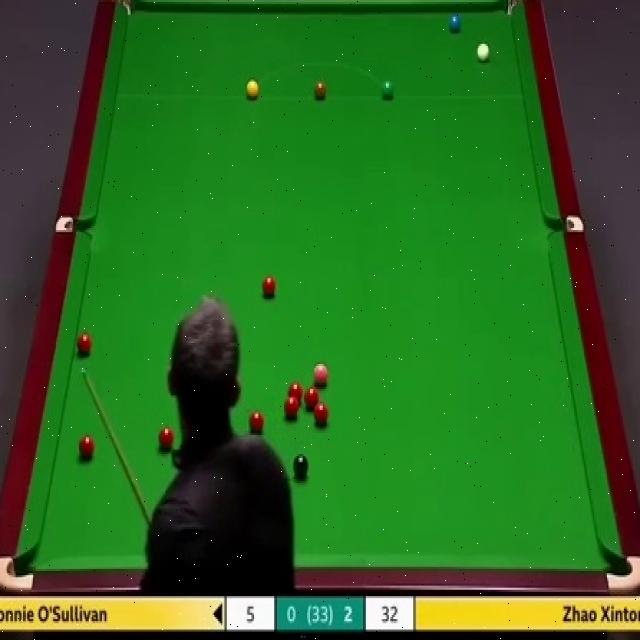black-ball: (293, 456, 308, 478)
blue-ball: (449, 14, 464, 32)
brown-ball: (314, 80, 328, 100)
green-ball: (380, 80, 395, 102)
pink-ball: (312, 361, 328, 387)
red-ball: (248, 409, 266, 437), (76, 330, 93, 356), (158, 426, 175, 452), (313, 400, 329, 425), (78, 434, 96, 456), (306, 383, 322, 406), (261, 276, 277, 299), (288, 381, 303, 405), (284, 396, 299, 418)
white-ball: (477, 43, 490, 63)
yellow-ball: (245, 79, 260, 100)
